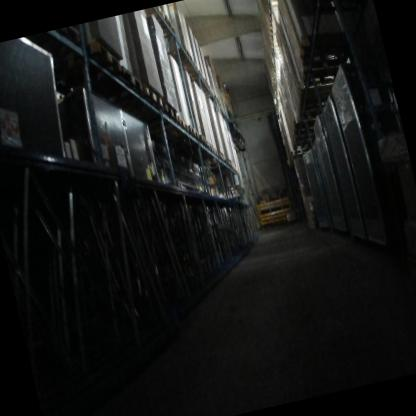pallet: (85, 34, 123, 83), (46, 25, 84, 56), (295, 74, 338, 101), (119, 61, 144, 99), (296, 35, 317, 65), (142, 84, 164, 111), (168, 45, 194, 67), (157, 13, 176, 38), (162, 99, 179, 126), (145, 5, 166, 24), (177, 60, 199, 75), (177, 114, 190, 135), (188, 69, 205, 85), (266, 21, 281, 37), (188, 124, 200, 141), (195, 78, 209, 89), (199, 134, 208, 147), (206, 141, 214, 155), (200, 85, 212, 94), (217, 151, 225, 162), (267, 0, 279, 6), (226, 160, 233, 168), (213, 147, 218, 157)
